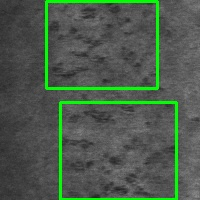rolled-in_scale: (60, 102, 176, 199), (47, 1, 157, 88)
